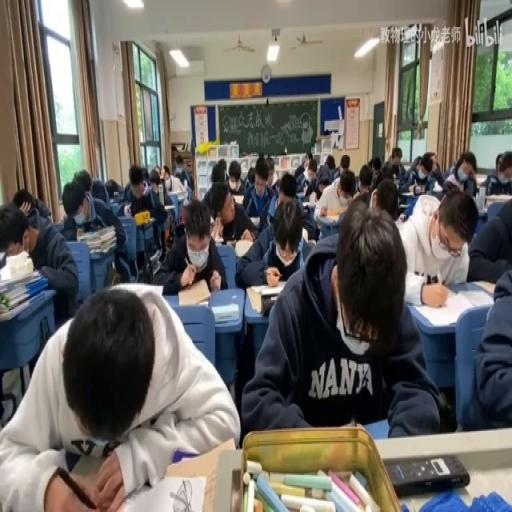calculator: (119, 471, 205, 512), (409, 285, 482, 327), (0, 264, 38, 291), (177, 277, 209, 303), (212, 300, 238, 322), (126, 282, 166, 296), (249, 283, 287, 296), (234, 238, 254, 258), (474, 278, 496, 294), (90, 244, 115, 258), (211, 233, 236, 246), (485, 193, 511, 205), (96, 225, 115, 240), (148, 248, 160, 270), (322, 208, 343, 220), (136, 213, 154, 226), (109, 199, 120, 215), (232, 193, 245, 205), (475, 174, 488, 186), (401, 186, 415, 196), (247, 215, 259, 226), (296, 189, 306, 199), (432, 181, 442, 189), (401, 164, 411, 172), (164, 204, 174, 210)
paper: (4, 282, 238, 509), (238, 199, 432, 440), (0, 198, 78, 331), (396, 184, 474, 298), (62, 174, 128, 292), (154, 196, 226, 294), (465, 180, 512, 284), (121, 162, 168, 265), (310, 165, 356, 226), (242, 155, 276, 230), (402, 148, 440, 193), (14, 186, 53, 225), (483, 152, 512, 196), (199, 164, 224, 214), (370, 178, 398, 219), (444, 150, 474, 186), (381, 145, 404, 186), (300, 190, 319, 238), (170, 156, 193, 194), (294, 155, 312, 192), (277, 172, 297, 202), (357, 164, 373, 196), (74, 168, 92, 195), (104, 176, 120, 199), (148, 165, 161, 192), (369, 156, 381, 180), (227, 164, 240, 186), (216, 158, 226, 179), (264, 155, 274, 176), (245, 165, 255, 185), (339, 154, 350, 172), (123, 181, 132, 202), (139, 165, 149, 182), (325, 154, 334, 170), (306, 168, 316, 182), (412, 155, 421, 169), (306, 148, 314, 163), (161, 169, 169, 182)
person: (386, 452, 470, 496), (260, 293, 278, 314)
